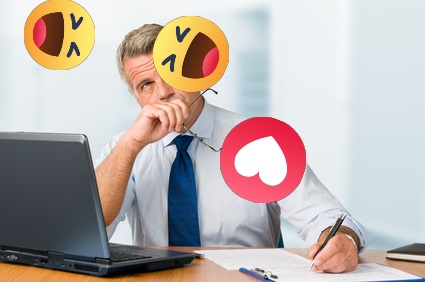haha: (153, 16, 229, 92), (24, 0, 95, 70)
love: (220, 117, 306, 203)
